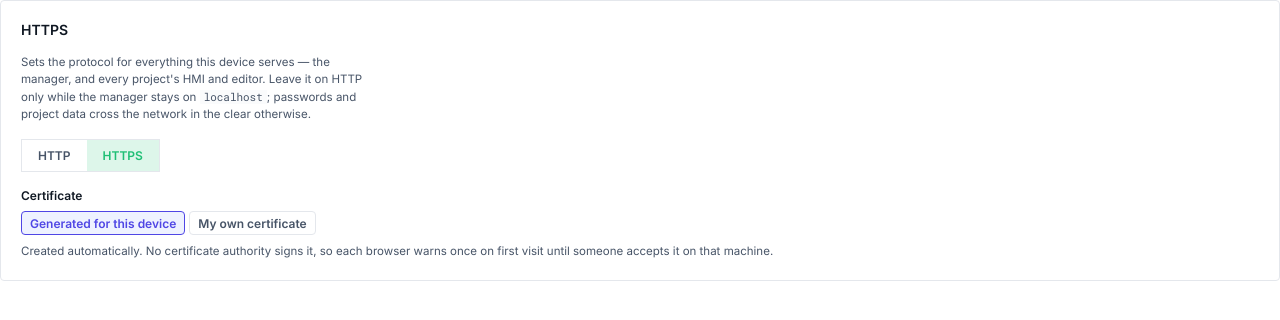
Scenario: HttpsSection › waits on its own spinner while the app moves to the HTTP port
Step 1. Click the button "HTTP" → point(54, 156), box [22,140,86,171]
Wait 61000 ms
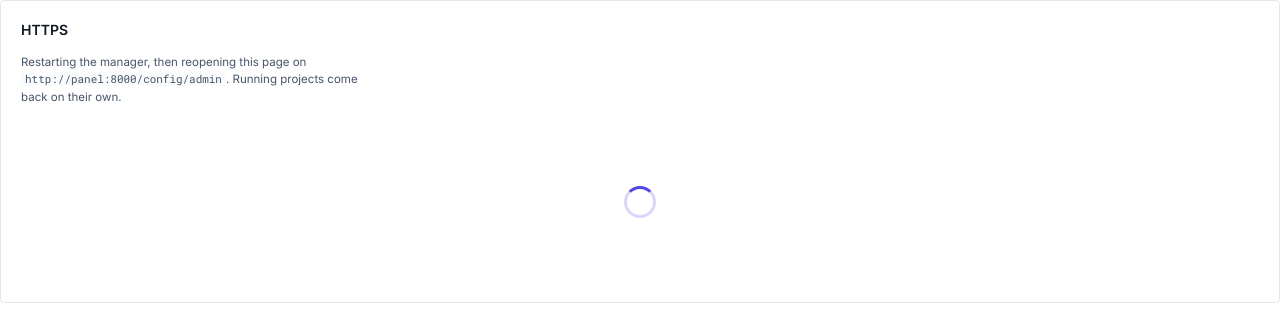
Result: the text "http://panel:8000/config/admin" is shown at [21,72,226,86]
